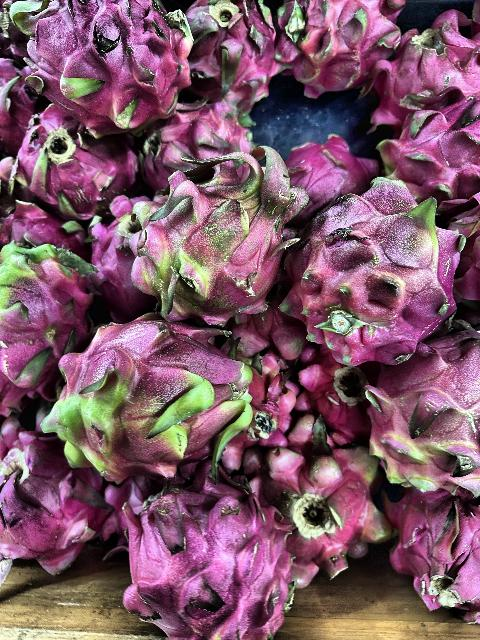buah-naga-belum-matang: (285, 170, 467, 358), (57, 304, 253, 478), (130, 152, 306, 310), (364, 332, 480, 493), (0, 232, 96, 390)
buah-naga-matang: (108, 472, 296, 640), (12, 0, 190, 121), (259, 412, 382, 570), (0, 418, 92, 576), (364, 82, 480, 204), (384, 478, 480, 618), (12, 108, 137, 210), (276, 1, 398, 88), (376, 11, 480, 113), (178, 0, 278, 104), (272, 130, 382, 212), (135, 107, 255, 173)
